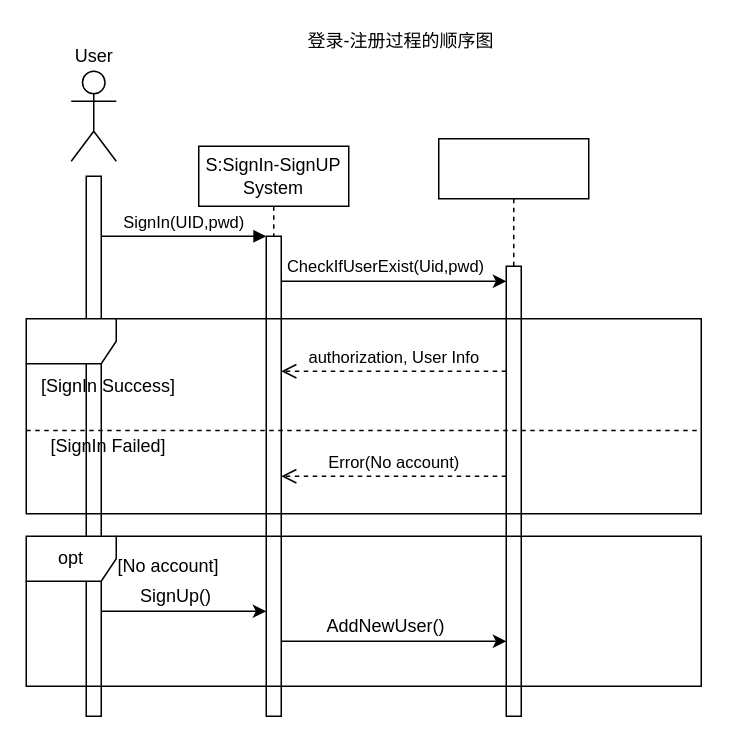
The diagram is 729 pixels wide and 743 high, and some of its shapes have lost their labels. The box of each missing label's shape, as (x1, y1, x2, y2) in pixels:
alt: (25, 317, 701, 514)
U:User management: (437, 137, 589, 266)
